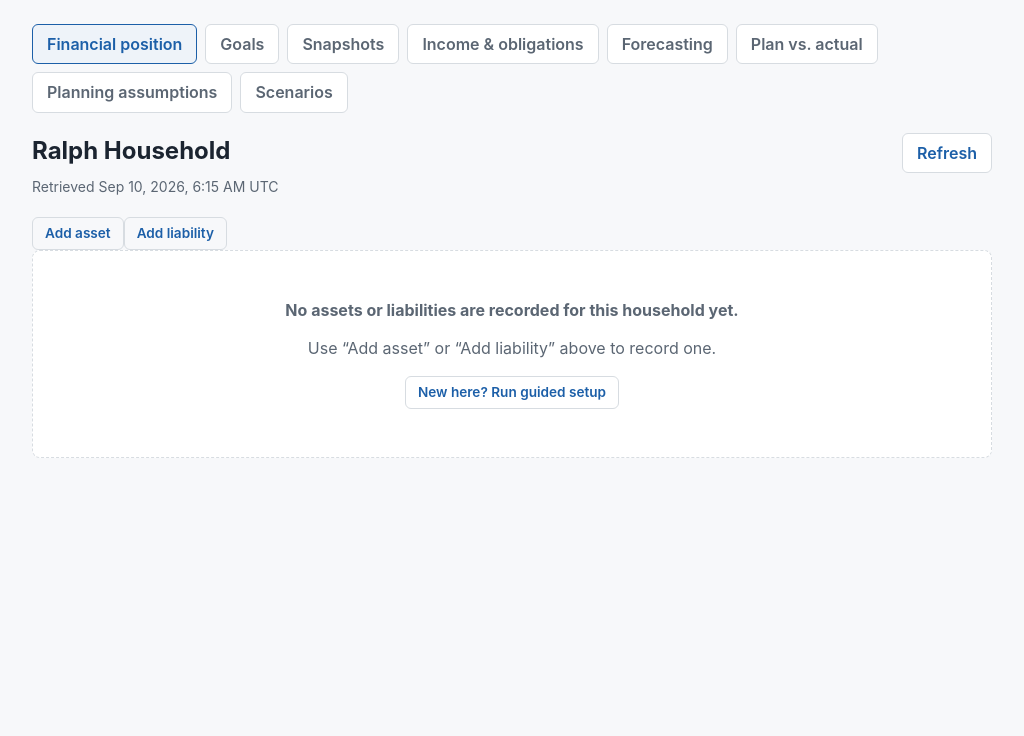
it: navigation › switches between the financial position and goals sections without a page reload
Check: the heading "Ralph Household" is shown, box [32,134,230,167]
Click the button "Goals": (242, 44) [205,24,279,64]
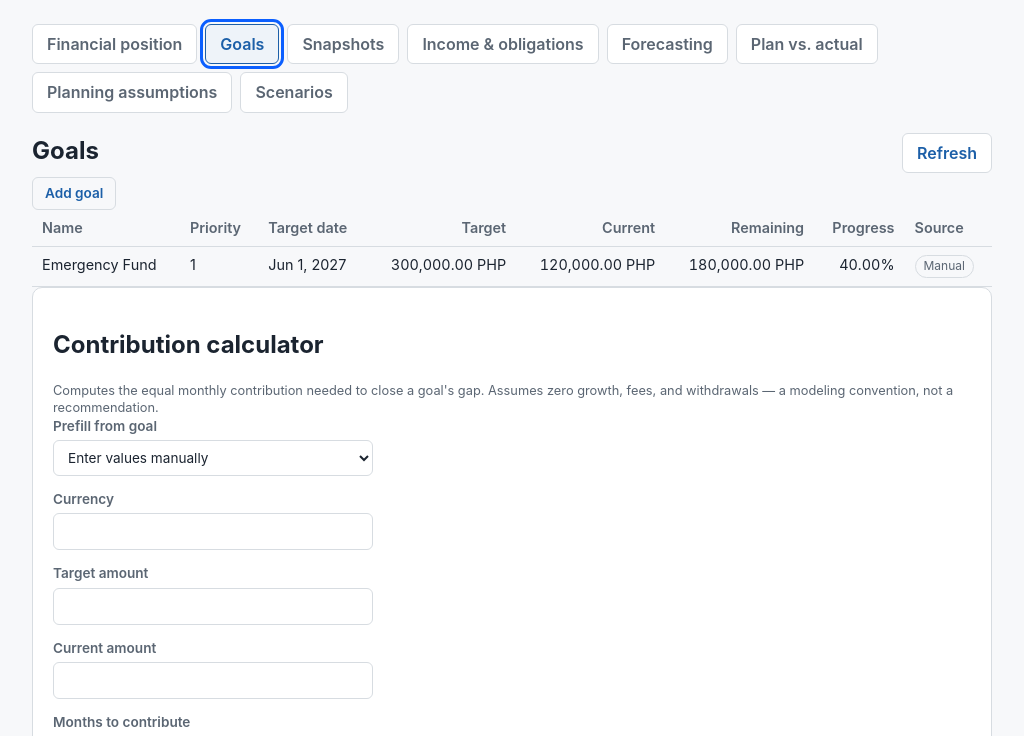
Check: the heading "Goals" is shown, box [32,134,99,167]
Check: the heading "Ralph Household" is gone
Click the button "Financial position": (115, 44) [32,24,197,64]
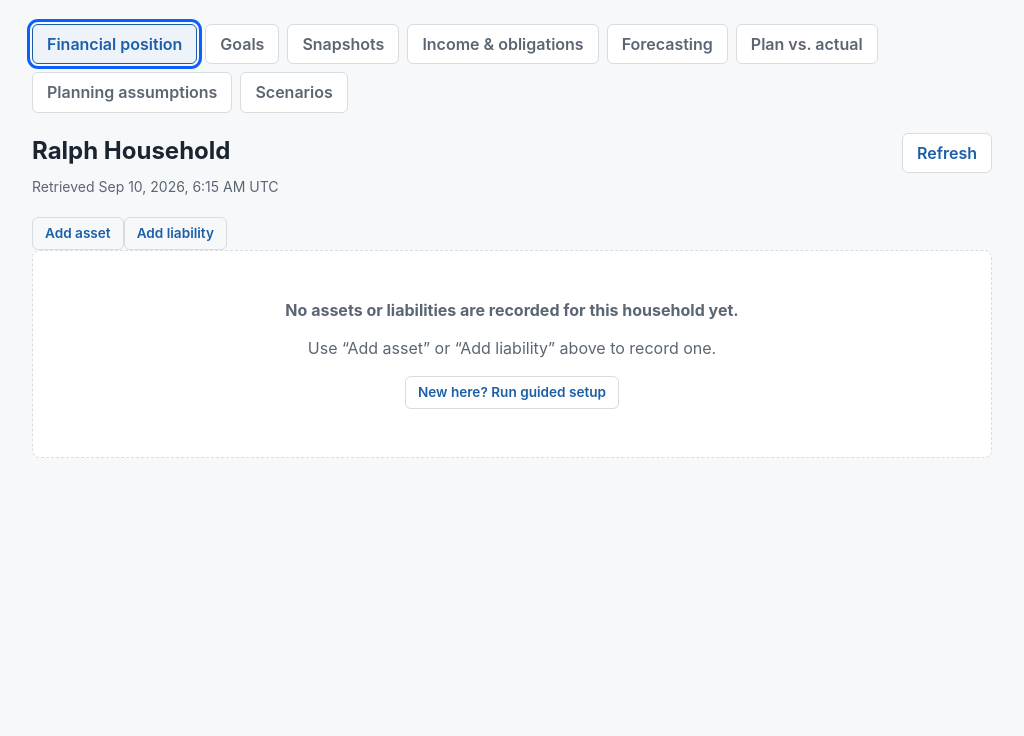
Check: the heading "Ralph Household" is shown, box [32,134,230,167]
